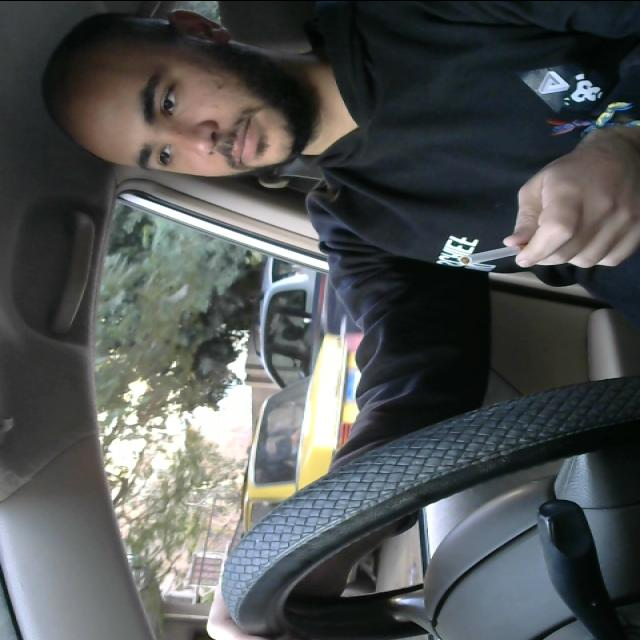smoking: (454, 237, 564, 267)
